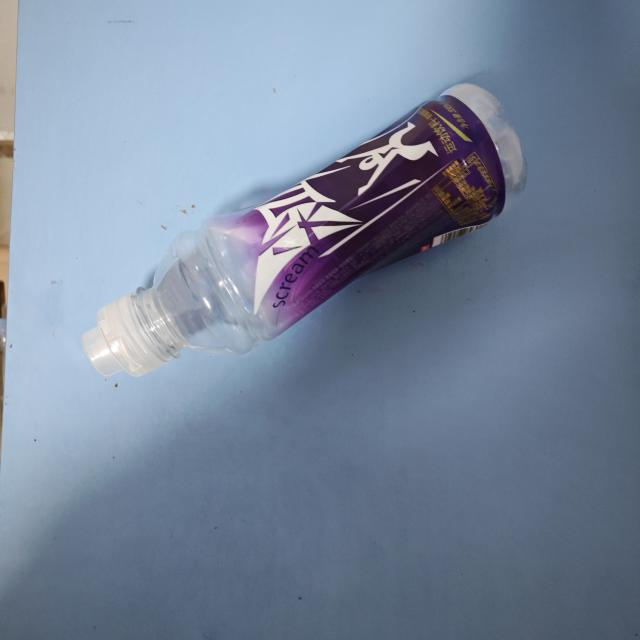-Recyclables - plastic bottle-: (80, 78, 530, 380)
